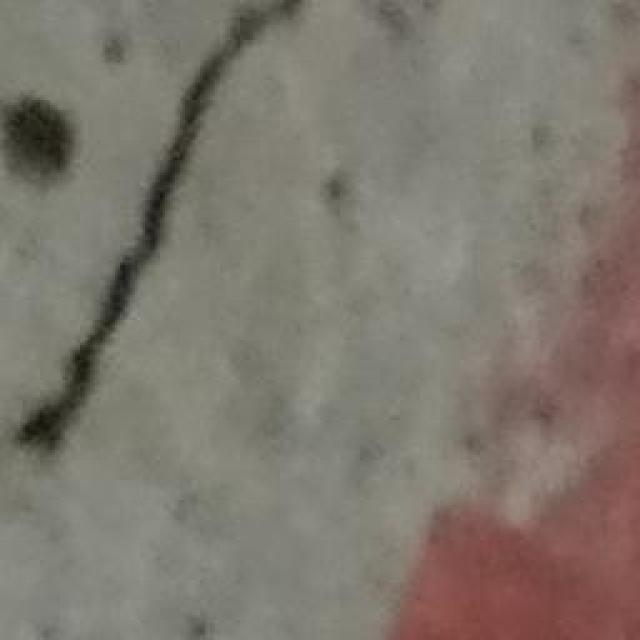Diagonal: (13, 0, 313, 455)
